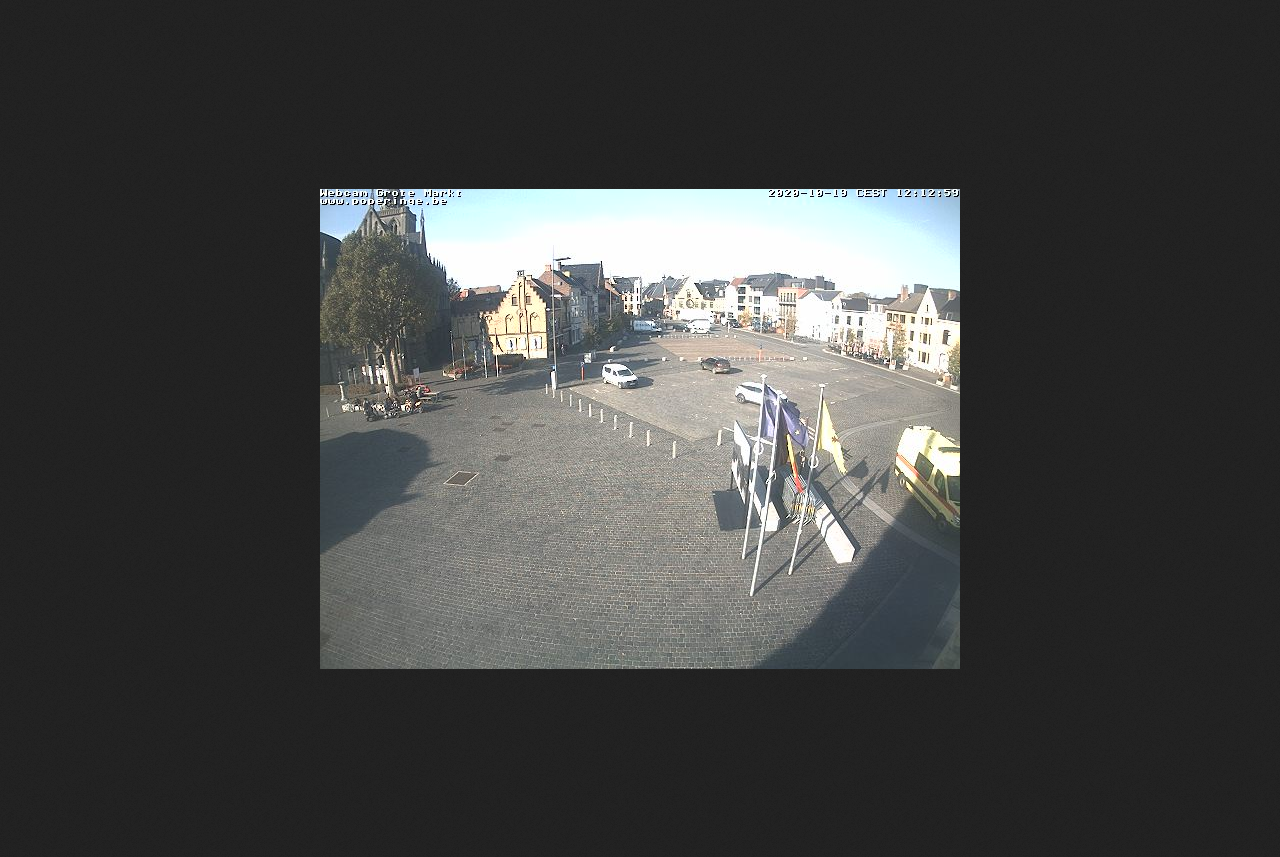no: (816, 398, 846, 471), (775, 399, 809, 462)
